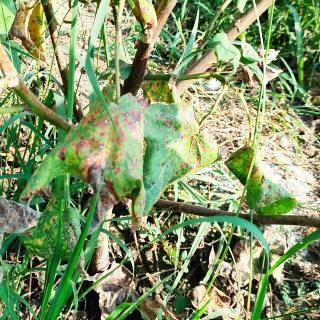blight: (26, 57, 218, 248)
